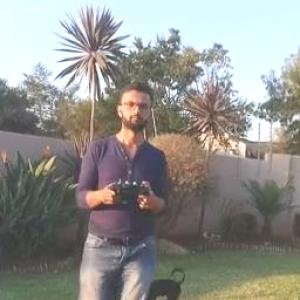follow: (69, 75, 168, 299)
null: (149, 265, 190, 299)
